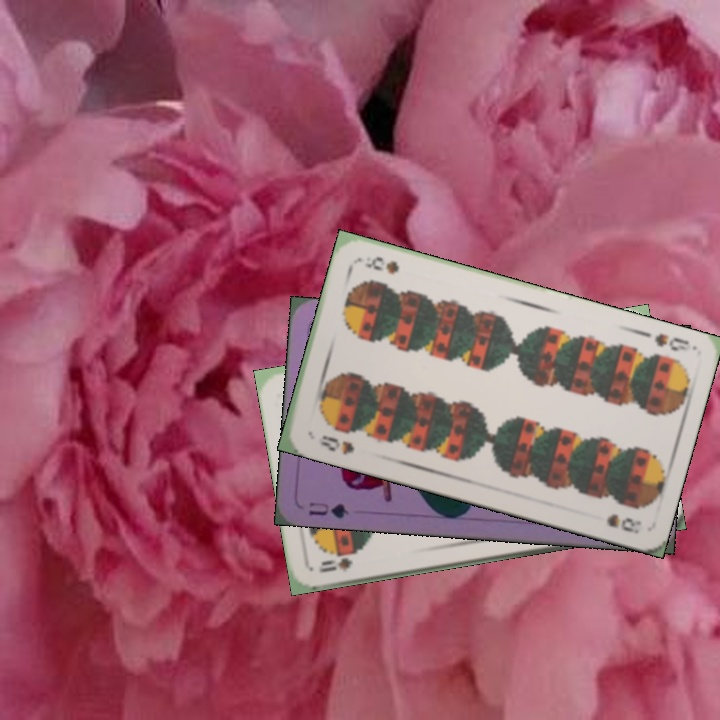GU: (305, 498, 351, 521)
S8: (650, 328, 695, 354), (315, 431, 357, 457)
SO: (315, 549, 360, 575)
